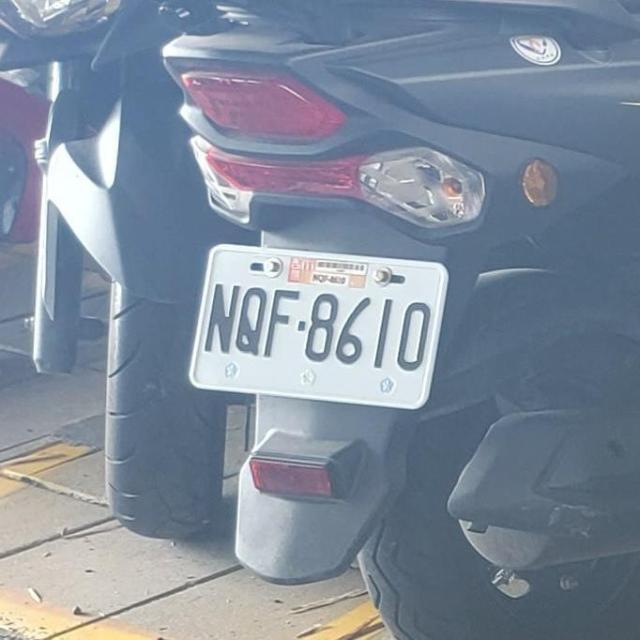W: (186, 231, 453, 416)
